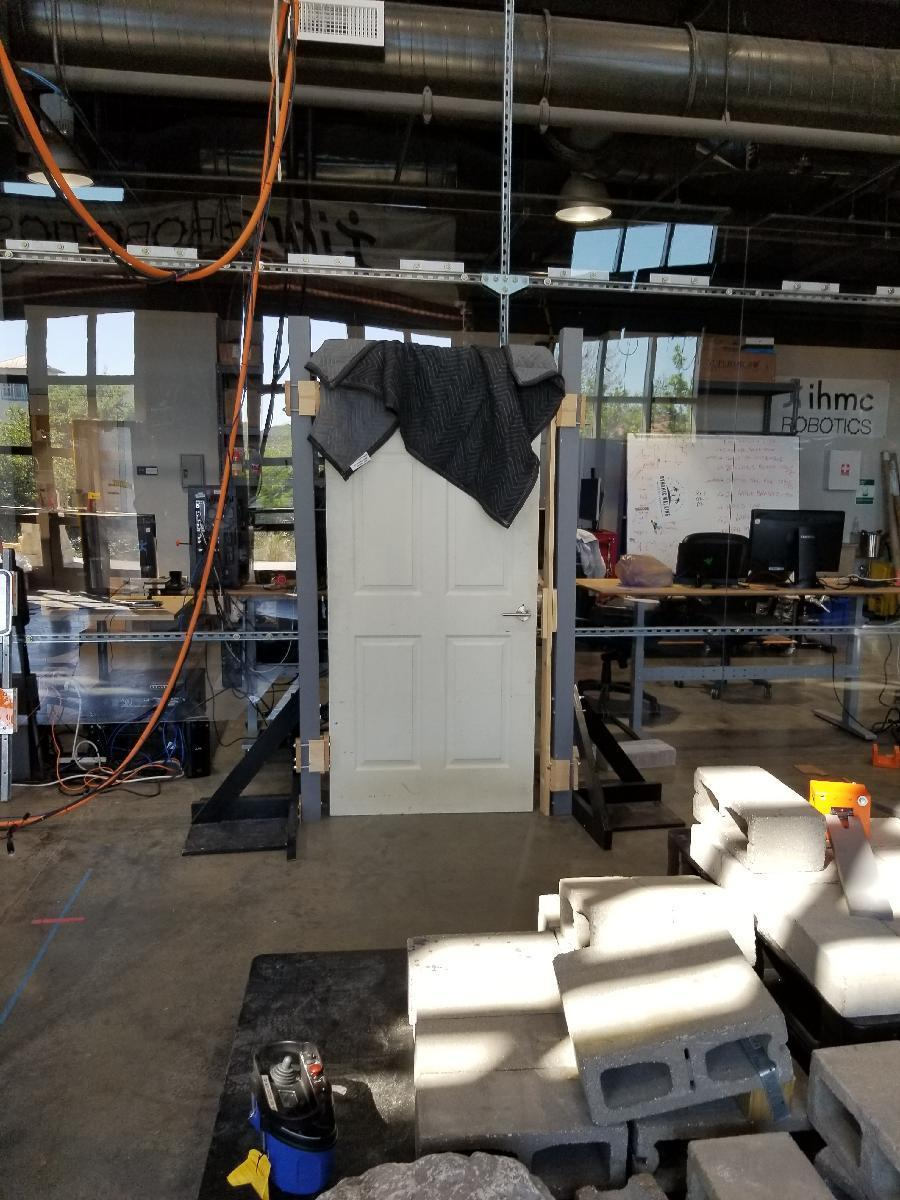door: (320, 348, 544, 819)
handle: (502, 602, 534, 622)
